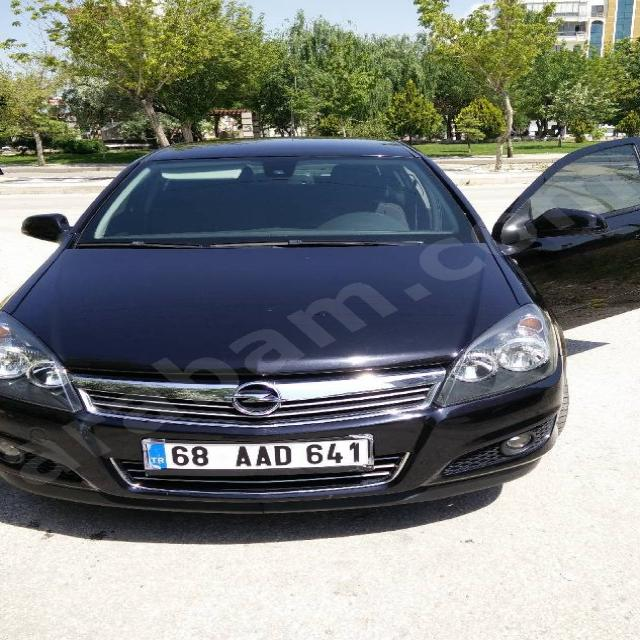license_plate: (144, 438, 370, 469)
